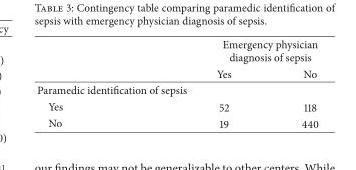table: (36, 36, 317, 131)
table column: (36, 36, 201, 131), (201, 36, 265, 131), (265, 36, 317, 131)
table column header: (36, 36, 317, 81)
table projected row header: (36, 81, 317, 97)
table row: (36, 36, 317, 65), (36, 97, 317, 114), (36, 114, 317, 131), (36, 65, 317, 81), (36, 81, 317, 97)
table spanning cell: (201, 36, 317, 65)
